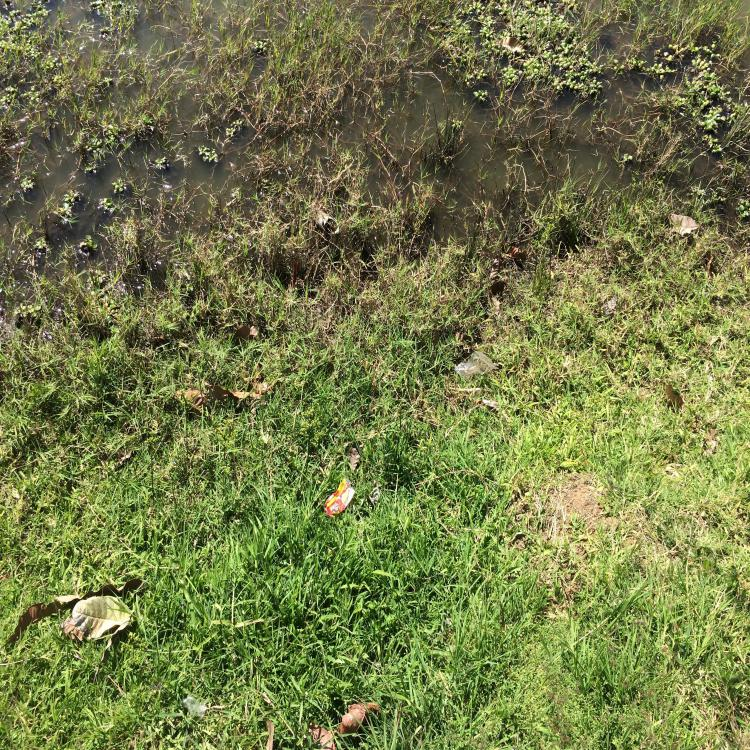Other plastic: (324, 477, 355, 516)
Plastic film: (454, 351, 499, 377), (182, 694, 207, 716)
